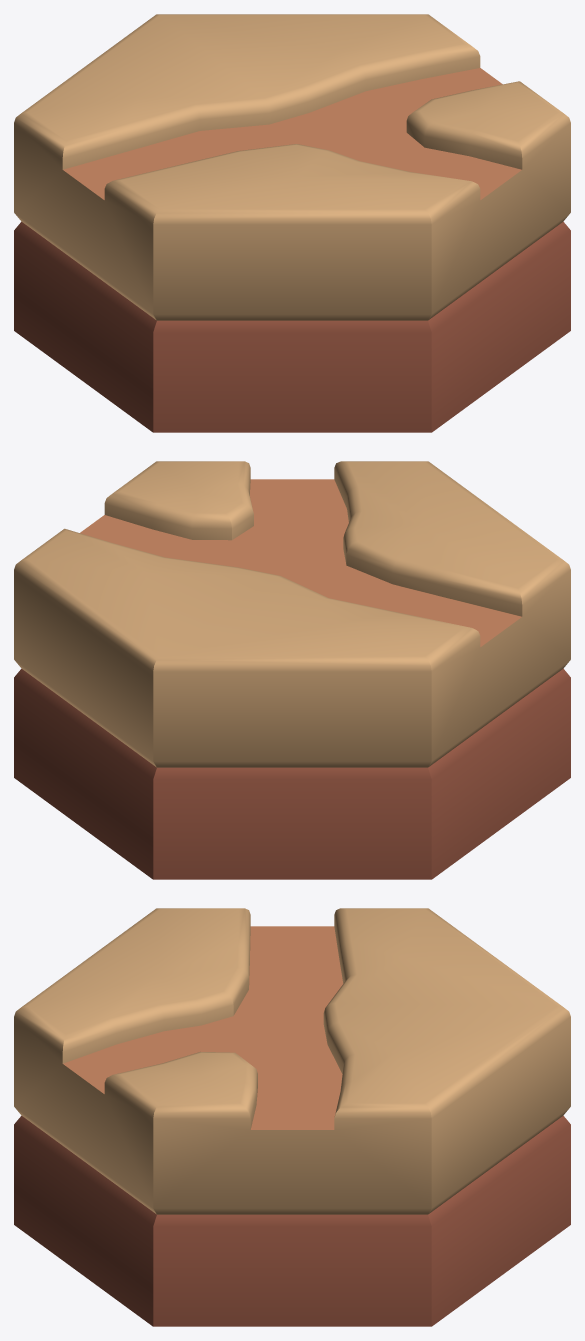
File: kaykit-hex-sand-roade-detail.glb
3 renders of one model, top to bottom at view 1: azimuth 30°, elevation 25°; view 2: azimuth 150°, elevation 25°; view 3: azimuth 270°, elevation 25°, orthographic.
Visible parts, largest first — view 1: hex_sand_roadE_detail; view 2: hex_sand_roadE_detail; view 3: hex_sand_roadE_detail.
Part boxes in pixels (x1,y1,x2,y2): hex_sand_roadE_detail: (14,14,570,432); hex_sand_roadE_detail: (14,461,570,879); hex_sand_roadE_detail: (14,908,570,1326).
Bounding box in the file's own units: 2 × 1 × 2.31.
